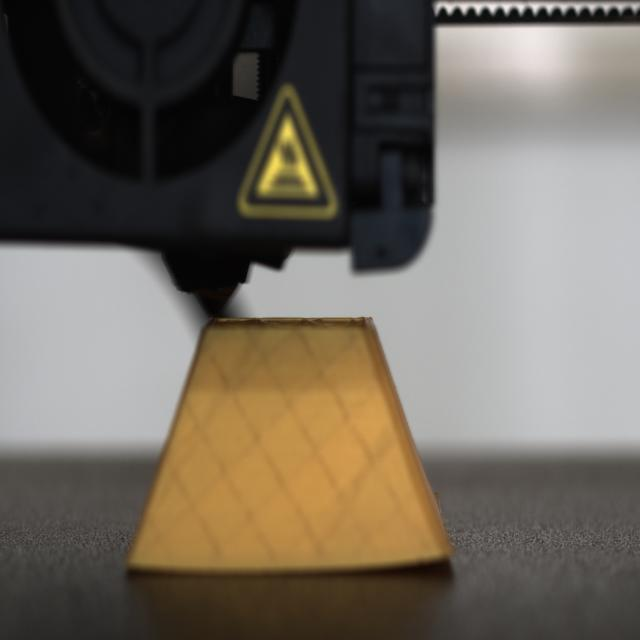Without deffect: (112, 298, 484, 607)
